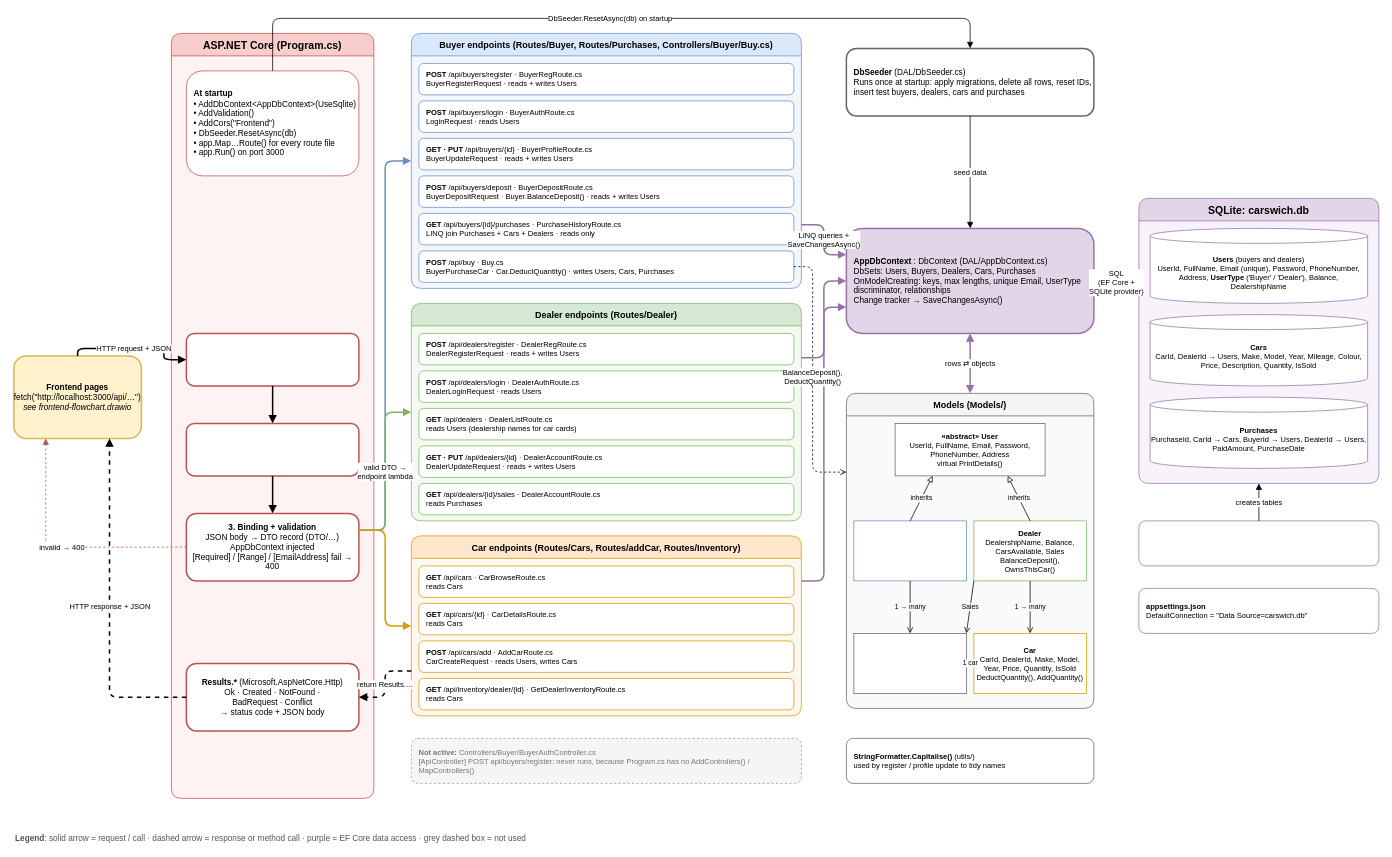
This 1392x857 diagram has some shape labels left out. Here are the shapes that lost their labels. From the top down, the centre of each, then its label:
the point at 272,359: 1. CORS policy "Frontend" allows localhost:5500 / 127.0.0.1:5500
the point at 272,449: 2. Routing URL + HTTP method → the matching app.MapGet / MapPost / MapPut lambda
the point at 909,550: Buyer Balance, Purchases BalanceDeposit() Dealers (computed)
the point at 1258,543: Migrations/ InitialCreate: generated from the models, creates the tables
the point at 909,663: Purchase PurchaseId, PaidAmount, PurchaseDate Car, Buyer, Dealer
